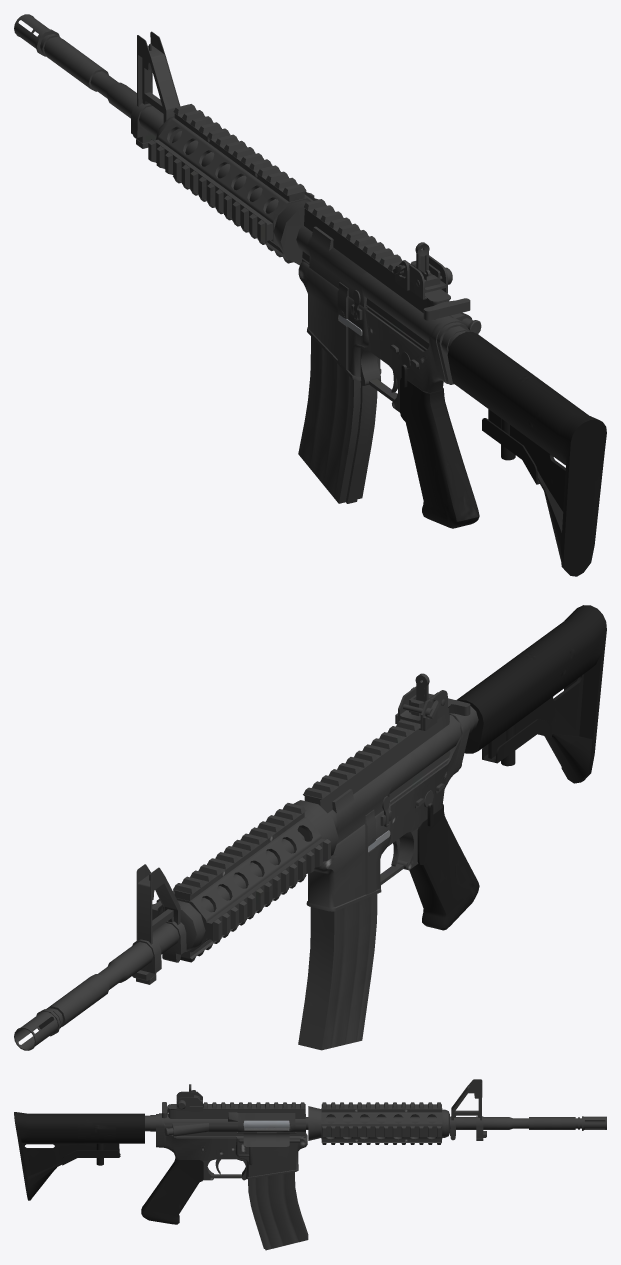
The model's file is oga_m4a1.m.a23f78eb.glb.
3 views of the same model, one above another, from view 1: azimuth 30°, elevation 25°; view 2: azimuth 150°, elevation 25°; view 3: azimuth 270°, elevation 25° (orthographic). The views are drawn at different scales.
Parts seen in each view (by area): view 1: Base, Barrel, Stock, Magazine, Sight; view 2: Base, Barrel, Stock, Magazine, Sight; view 3: Base, Barrel, Stock, Magazine, Ejector_Lid, Sight, Ejector.
Part boxes in pixels (bbox=[...]): Base: bbox=[296, 199, 481, 528]; Barrel: bbox=[14, 14, 318, 265]; Stock: bbox=[441, 326, 606, 576]; Magazine: bbox=[298, 336, 377, 503]; Sight: bbox=[395, 242, 447, 299]; Base: bbox=[303, 702, 479, 930]; Barrel: bbox=[14, 800, 338, 1050]; Stock: bbox=[456, 605, 606, 783]; Magazine: bbox=[298, 894, 377, 1050]; Sight: bbox=[395, 673, 447, 730]; Base: bbox=[141, 1102, 307, 1224]; Barrel: bbox=[306, 1079, 606, 1144]; Stock: bbox=[14, 1112, 155, 1200]; Magazine: bbox=[248, 1172, 308, 1250]; Ejector_Lid: bbox=[237, 1132, 296, 1146]; Sight: bbox=[176, 1084, 202, 1111]; Ejector: bbox=[243, 1120, 289, 1128].
Size of the model in its own units: 0.0636 by 0.2663 by 0.8588.
1 material, 1 textured.
